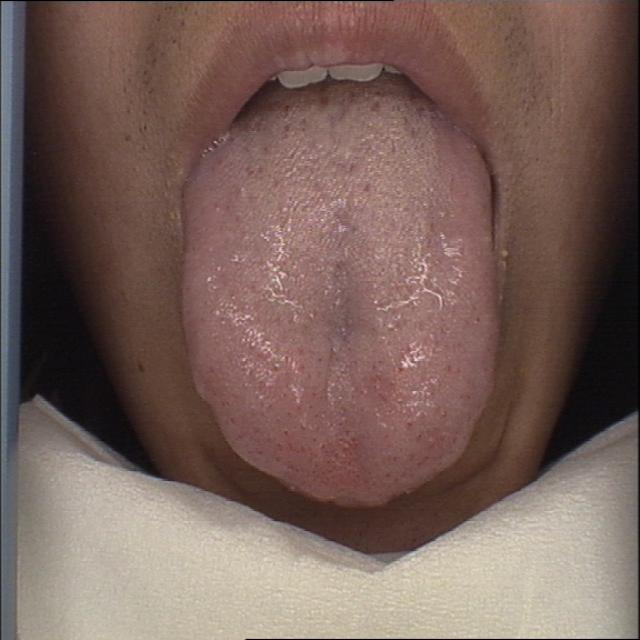tongue: (172, 146, 511, 508)
